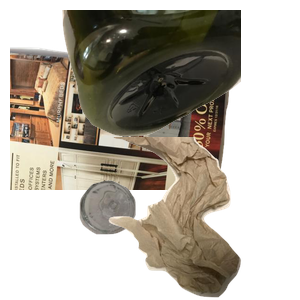glass: (77, 178, 205, 300)
paper: (10, 44, 232, 224)
plastic: (60, 10, 300, 139)
trash: (103, 137, 300, 300)
